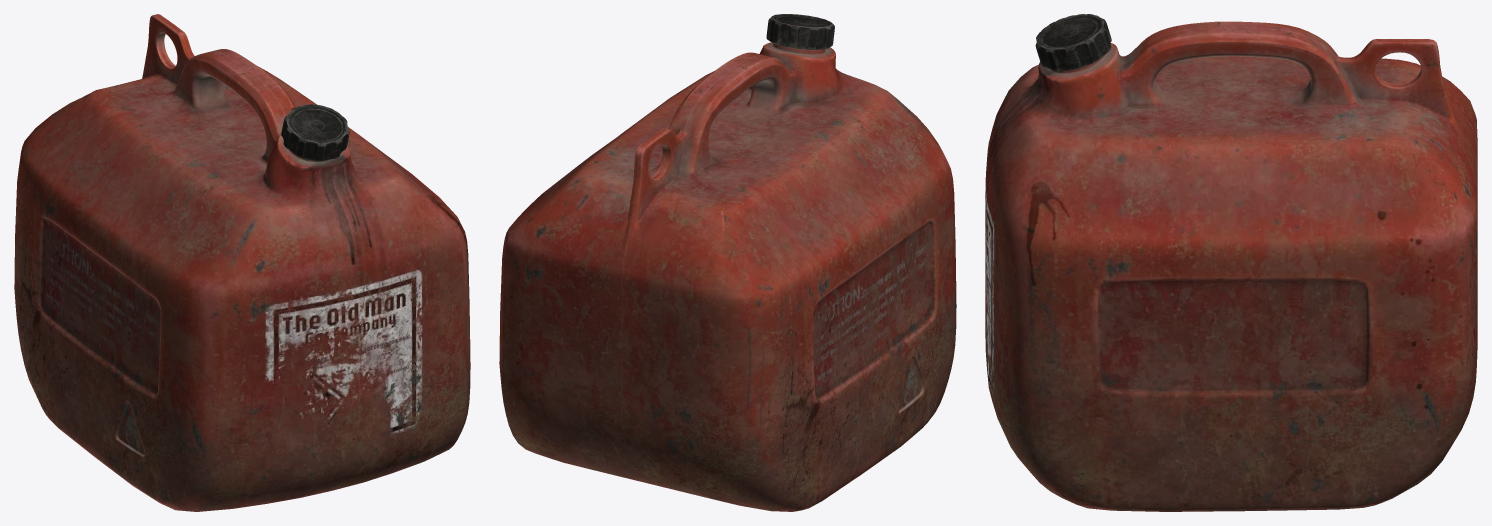
File: plastic_jerrycan.glb
3 renders of one model, left to right at view 1: azimuth 30°, elevation 25°; view 2: azimuth 150°, elevation 25°; view 3: azimuth 270°, elevation 25°, orthographic. The views are drawn at different scales.
Parts seen in each view (by area): view 1: plastic_jerrycan; view 2: plastic_jerrycan; view 3: plastic_jerrycan.
Boxes of the visible parts, left/top/right/bottom form: plastic_jerrycan: left=14, top=14, right=470, bottom=511; plastic_jerrycan: left=499, top=14, right=956, bottom=511; plastic_jerrycan: left=985, top=14, right=1477, bottom=511.
Bounding box in the file's own units: 0.268 × 0.3184 × 0.3409.
1 material, 1 textured.
